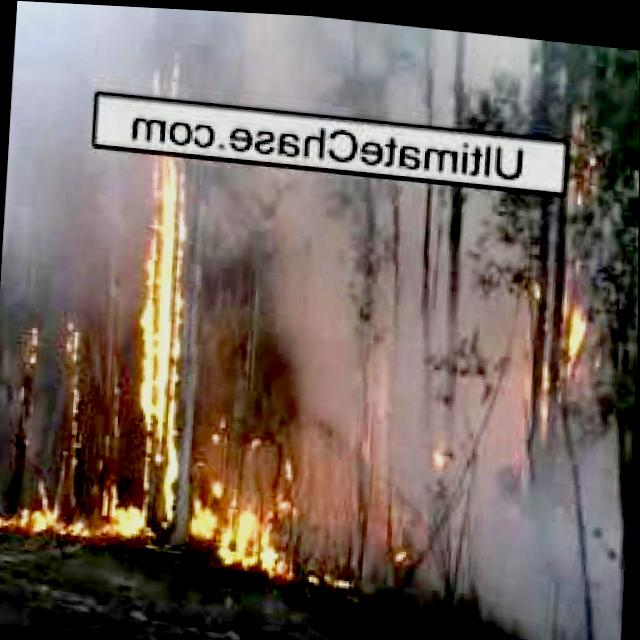Fire: (124, 153, 192, 537), (549, 96, 616, 375), (189, 440, 309, 579), (0, 475, 107, 541), (50, 324, 90, 462), (23, 335, 38, 372)
